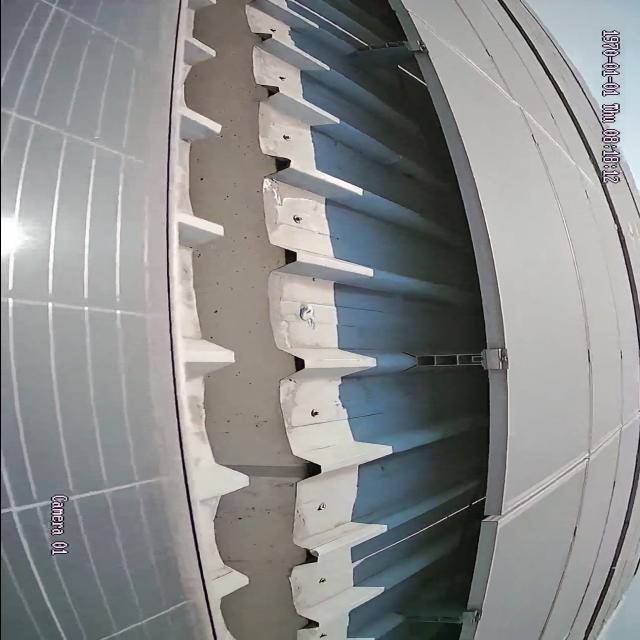interior panel: (495, 412, 635, 532)
outher panel: (159, 0, 495, 640)
